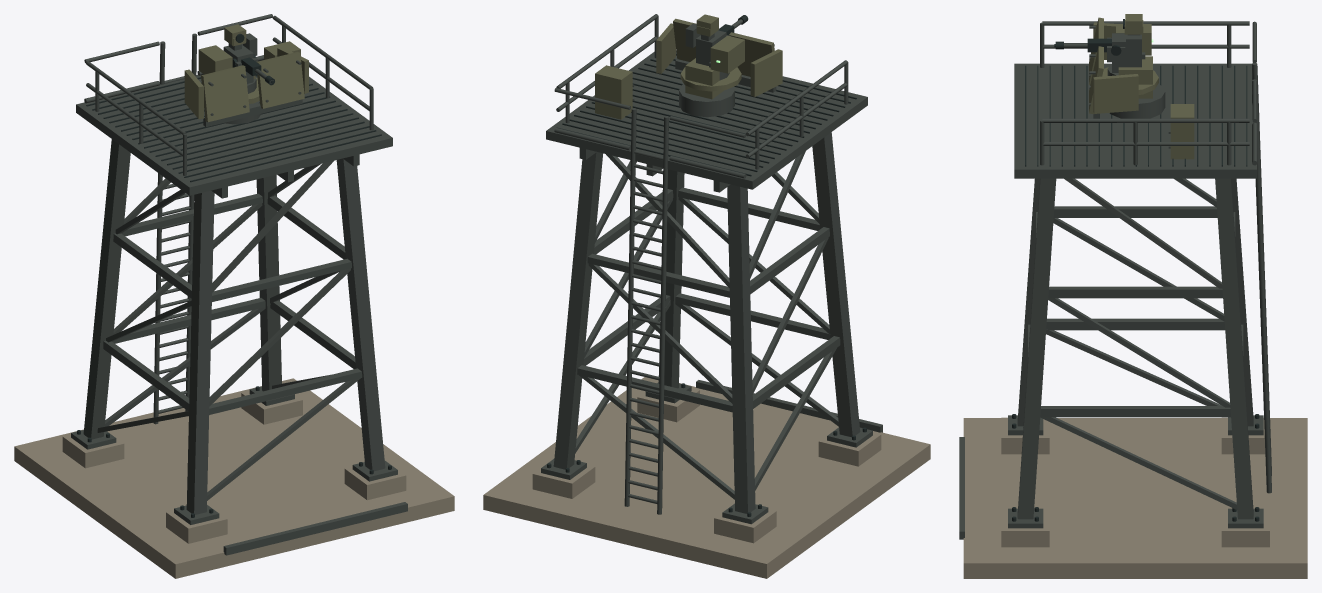
The model's file is prototype.glb.
3 renders of one model, left to right at view 1: azimuth 30°, elevation 25°; view 2: azimuth 150°, elevation 25°; view 3: azimuth 270°, elevation 25°, orthographic. The views are drawn at different scales.
Visible parts, largest first — view 1: mg-tower_surface_14, mg-tower_surface_00, mg-tower_surface_15, mg-tower_surface_09, mg-tower_surface_13, mg-tower_surface_01, mg-tower_surface_06, mg-tower_surface_05, mg-tower_surface_10; view 2: mg-tower_surface_14, mg-tower_surface_00, mg-tower_surface_15, mg-tower_surface_13, mg-tower_surface_09, mg-tower_surface_16, mg-tower_surface_06, mg-tower_surface_11, mg-tower_surface_01, mg-tower_surface_05, mg-tower_surface_12, mg-tower_surface_08; view 3: mg-tower_surface_14, mg-tower_surface_00, mg-tower_surface_13, mg-tower_surface_15, mg-tower_surface_09, mg-tower_surface_16, mg-tower_surface_05, mg-tower_surface_11, mg-tower_surface_06, mg-tower_surface_12, mg-tower_surface_01.
Boxes of the visible parts, x1=… form: mg-tower_surface_14: x1=71, y1=14, x2=397, y2=524; mg-tower_surface_00: x1=14, y1=378, x2=454, y2=578; mg-tower_surface_15: x1=77, y1=75, x2=391, y2=517; mg-tower_surface_09: x1=184, y1=47, x2=308, y2=122; mg-tower_surface_13: x1=62, y1=391, x2=406, y2=543; mg-tower_surface_01: x1=223, y1=502, x2=407, y2=555; mg-tower_surface_06: x1=198, y1=24, x2=246, y2=74; mg-tower_surface_05: x1=223, y1=33, x2=257, y2=93; mg-tower_surface_10: x1=203, y1=60, x2=302, y2=127; mg-tower_surface_14: x1=541, y1=14, x2=872, y2=524; mg-tower_surface_00: x1=483, y1=377, x2=930, y2=578; mg-tower_surface_15: x1=547, y1=54, x2=866, y2=516; mg-tower_surface_13: x1=532, y1=382, x2=881, y2=543; mg-tower_surface_09: x1=656, y1=18, x2=782, y2=96; mg-tower_surface_16: x1=595, y1=65, x2=632, y2=119; mg-tower_surface_06: x1=696, y1=14, x2=744, y2=73; mg-tower_surface_11: x1=679, y1=84, x2=734, y2=117; mg-tower_surface_01: x1=696, y1=380, x2=882, y2=432; mg-tower_surface_05: x1=685, y1=23, x2=730, y2=80; mg-tower_surface_12: x1=685, y1=58, x2=724, y2=99; mg-tower_surface_08: x1=680, y1=67, x2=741, y2=91; mg-tower_surface_14: x1=1008, y1=21, x2=1271, y2=528; mg-tower_surface_00: x1=963, y1=418, x2=1307, y2=578; mg-tower_surface_13: x1=1001, y1=417, x2=1269, y2=547; mg-tower_surface_15: x1=1012, y1=65, x2=1259, y2=521; mg-tower_surface_09: x1=1089, y1=17, x2=1138, y2=114; mg-tower_surface_16: x1=1170, y1=104, x2=1194, y2=159; mg-tower_surface_05: x1=1107, y1=33, x2=1145, y2=75; mg-tower_surface_11: x1=1109, y1=84, x2=1165, y2=118; mg-tower_surface_06: x1=1116, y1=14, x2=1151, y2=55; mg-tower_surface_12: x1=1118, y1=56, x2=1152, y2=98; mg-tower_surface_01: x1=959, y1=437, x2=964, y2=539.
Bounding box in the file's own units: 7 × 10.96 × 7.09.
